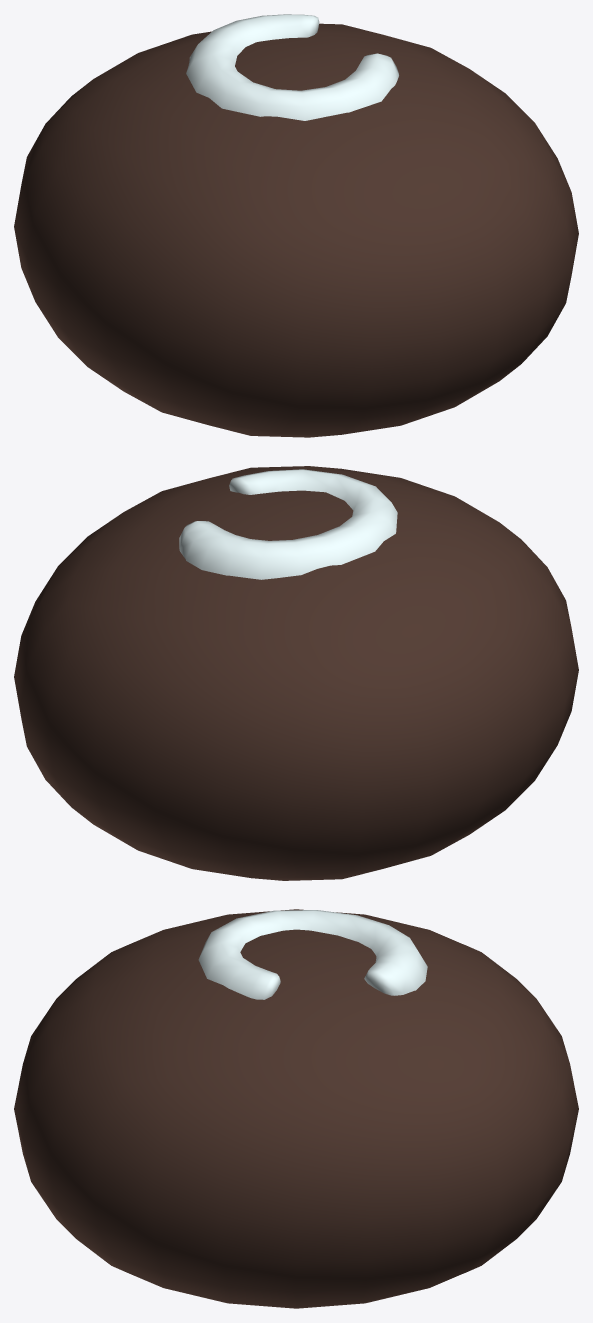
File: Candy_D_03.fbx
3 views of the same model, one above another, from view 1: azimuth 30°, elevation 25°; view 2: azimuth 150°, elevation 25°; view 3: azimuth 270°, elevation 25° (orthographic). The views are drawn at different scales.
Parts seen in each view (by area): view 1: Candy_D_03_LOD0; view 2: Candy_D_03_LOD0; view 3: Candy_D_03_LOD0.
Boxes of the visible parts, x1=… form: Candy_D_03_LOD0: x1=14, y1=14, x2=578, y2=437; Candy_D_03_LOD0: x1=14, y1=466, x2=578, y2=880; Candy_D_03_LOD0: x1=14, y1=909, x2=578, y2=1308.
Size of what is drawn, in the model's own units: 313 by 210 by 330.
